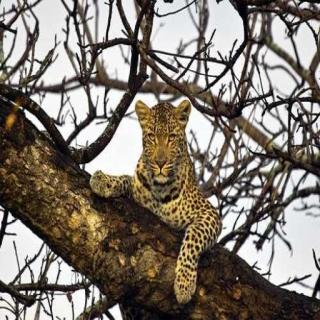Leopard: (74, 80, 254, 285)
